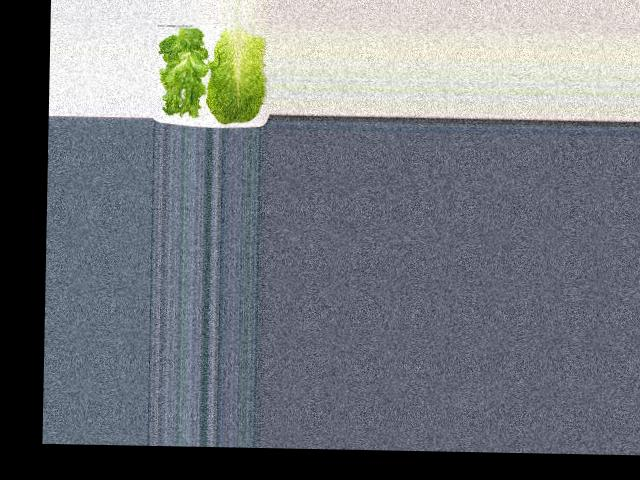lettuce: (152, 30, 206, 118)
